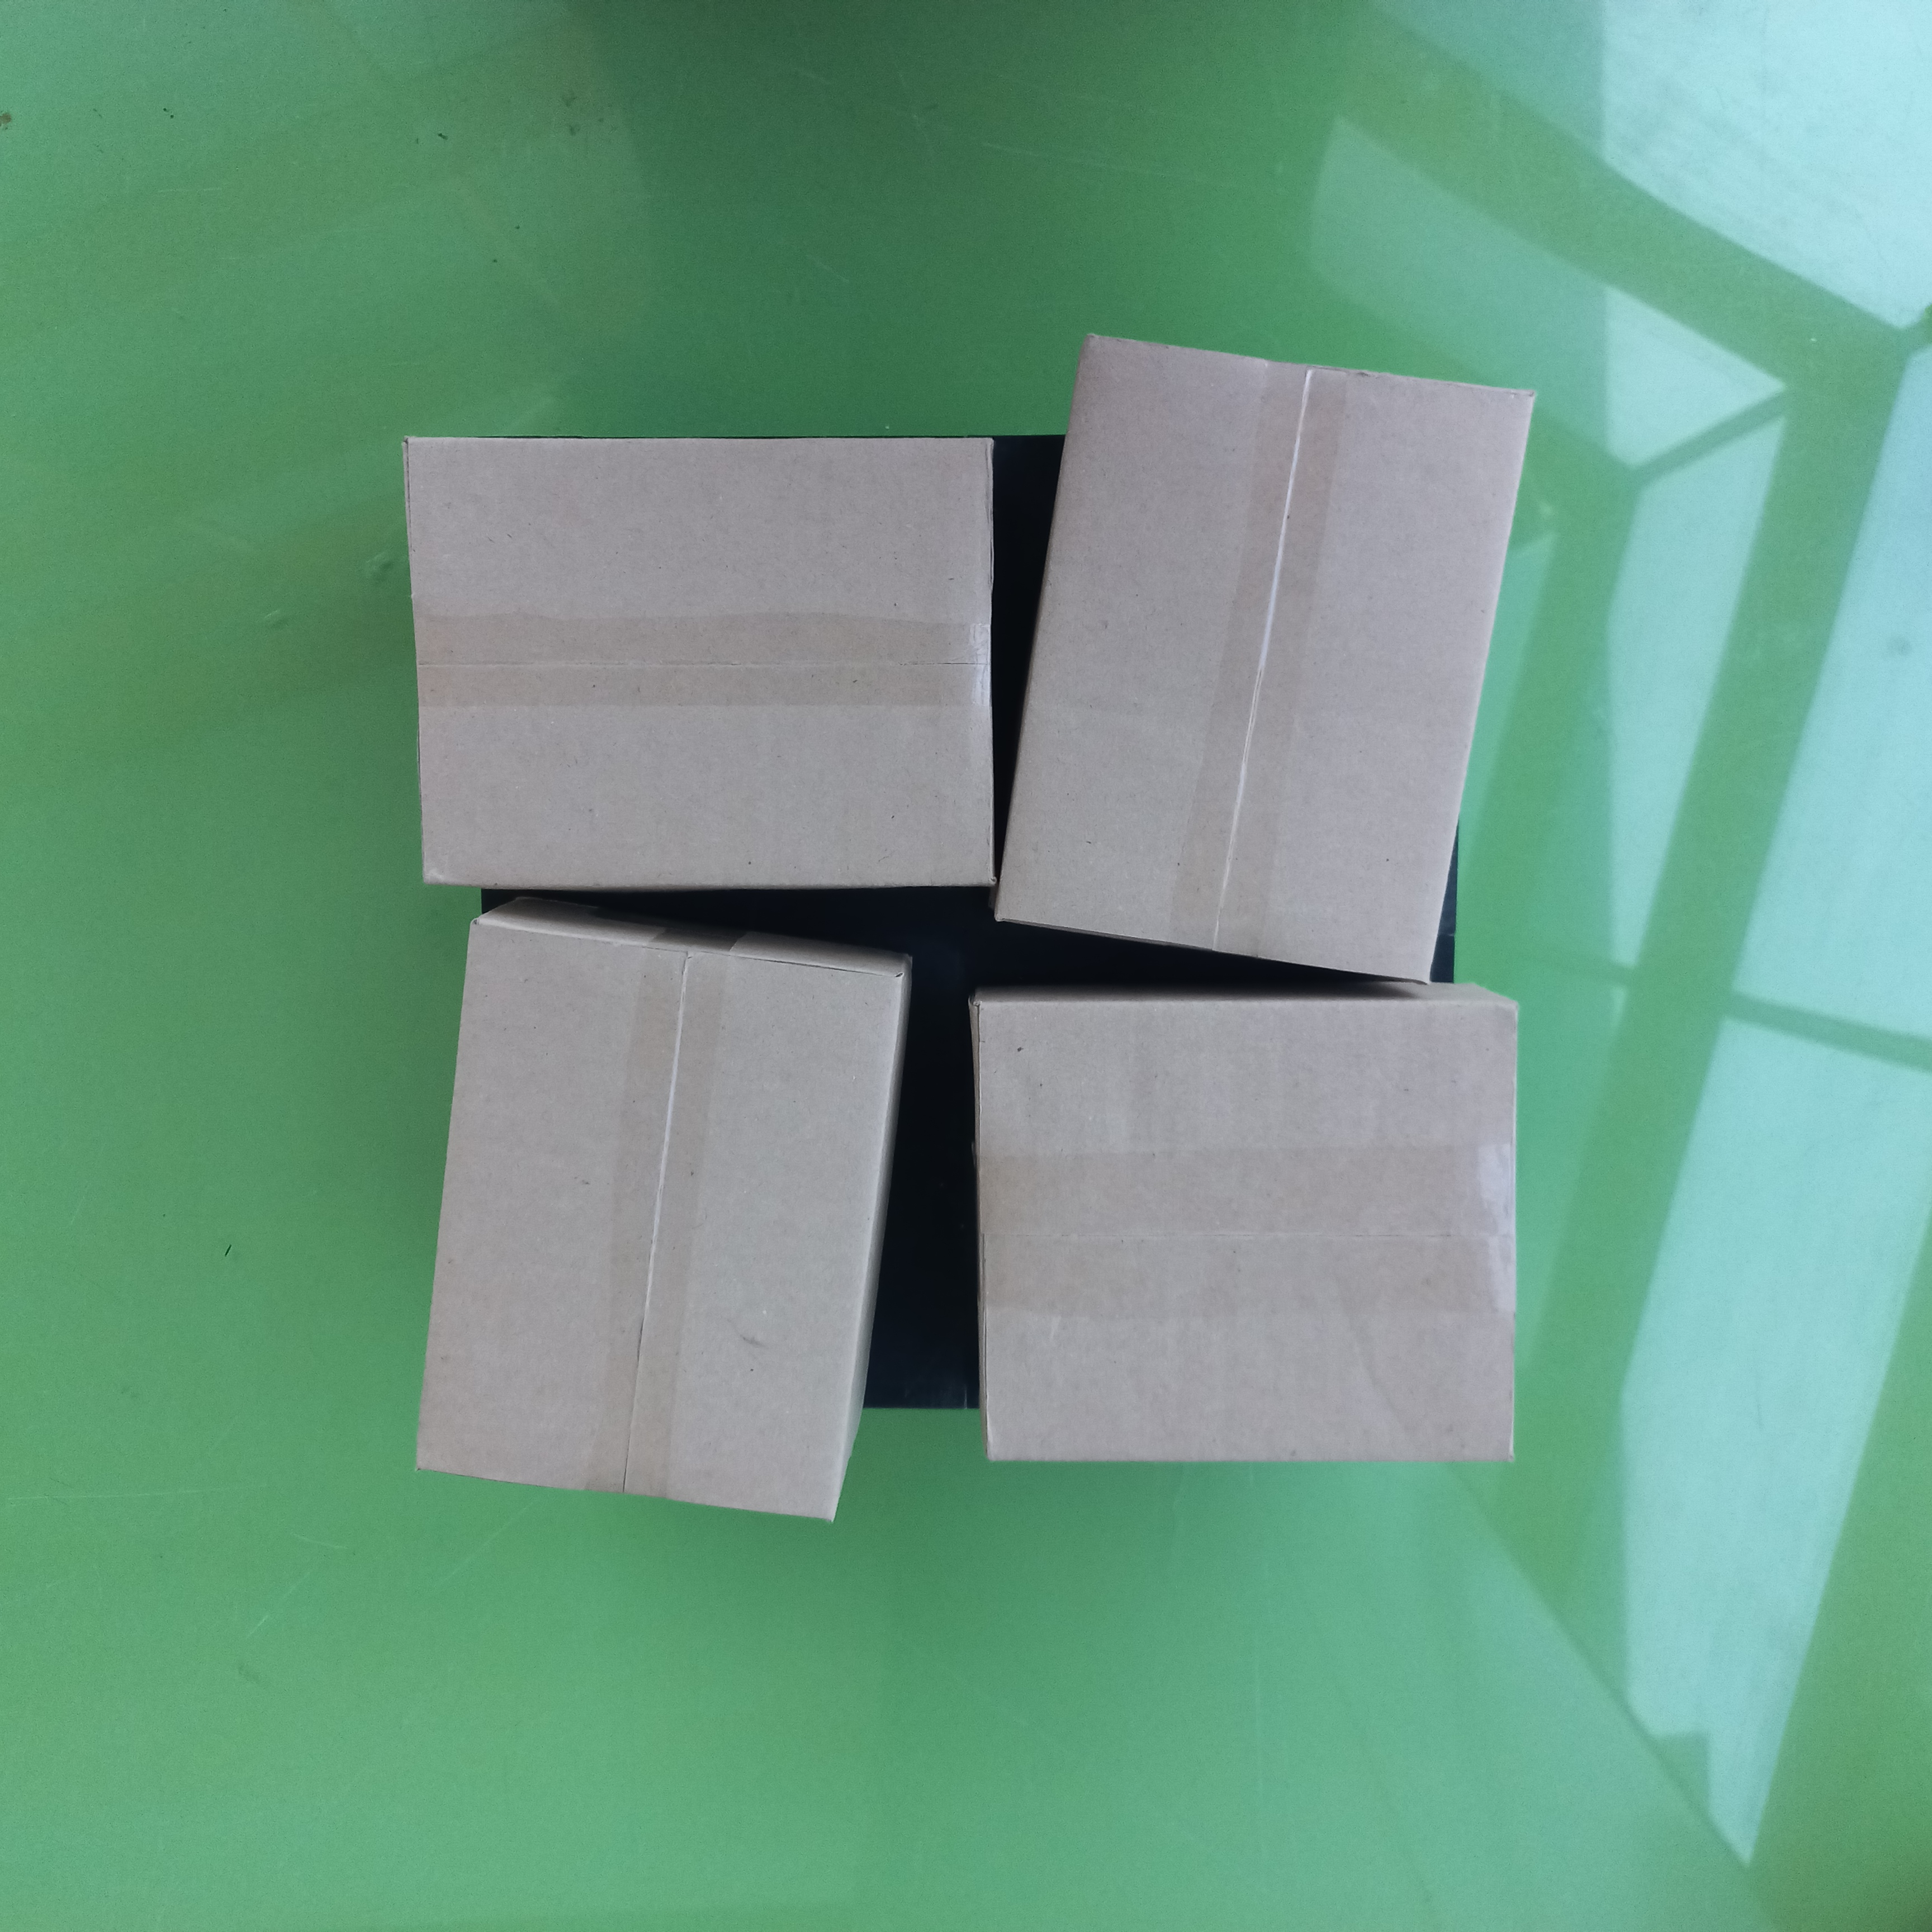box: (994, 324, 1534, 991), (407, 916, 906, 1530), (395, 435, 1000, 897), (968, 978, 1520, 1472)
